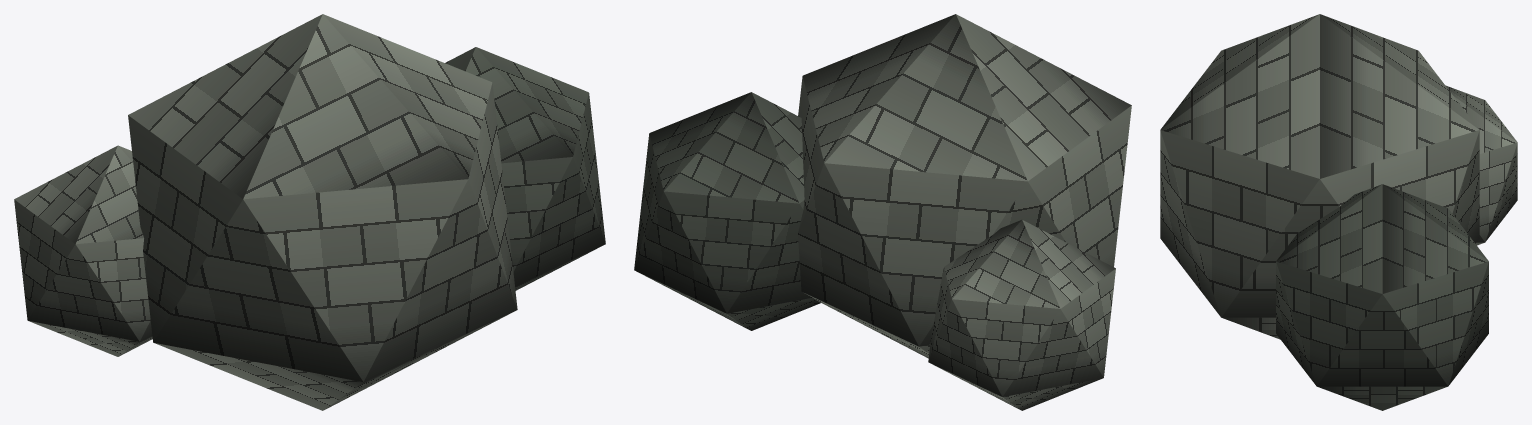
The model's file is rocks.glb.
3 renders of one model, left to right at view 1: azimuth 30°, elevation 25°; view 2: azimuth 150°, elevation 25°; view 3: azimuth 270°, elevation 25°, orthographic. The views are drawn at different scales.
Visible parts, largest first — view 1: rocks; view 2: rocks; view 3: rocks.
Boxes of the visible parts, x1,y1,x2,y2 form: rocks: (14, 14, 605, 410); rocks: (634, 14, 1131, 410); rocks: (1160, 14, 1517, 410).
Bounding box in the file's own units: 0.842 × 0.6 × 0.5713.
Materials: 1 (1 with a texture image).
